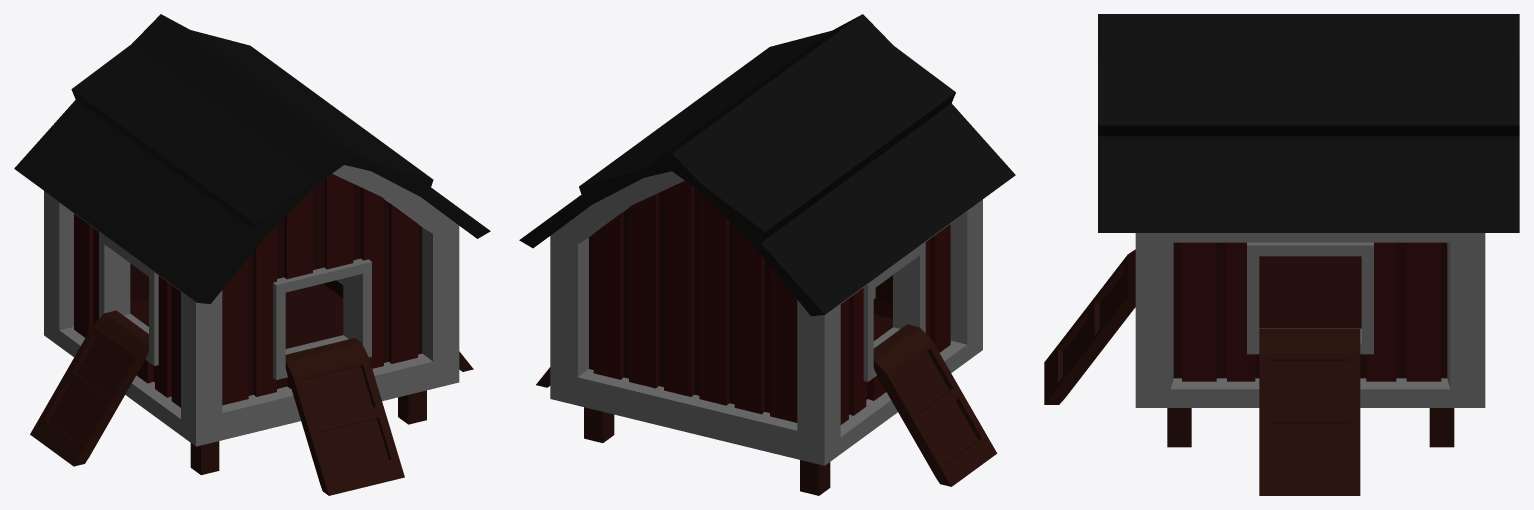
The model's file is ChickenCoop.glb.
3 renders of one model, left to right at view 1: azimuth 30°, elevation 25°; view 2: azimuth 150°, elevation 25°; view 3: azimuth 270°, elevation 25°, orthographic. The views are drawn at different scales.
Parts seen in each view (by area): view 1: world; view 2: world; view 3: world.
Boxes of the visible parts, x1,y1,x2,y2 form: world: (14,14,490,495); world: (519,14,1015,495); world: (1044,14,1519,495).
Size of the model in its own units: 2.41 by 1.85 by 2.15.
Materials: 1 (1 with a texture image).
